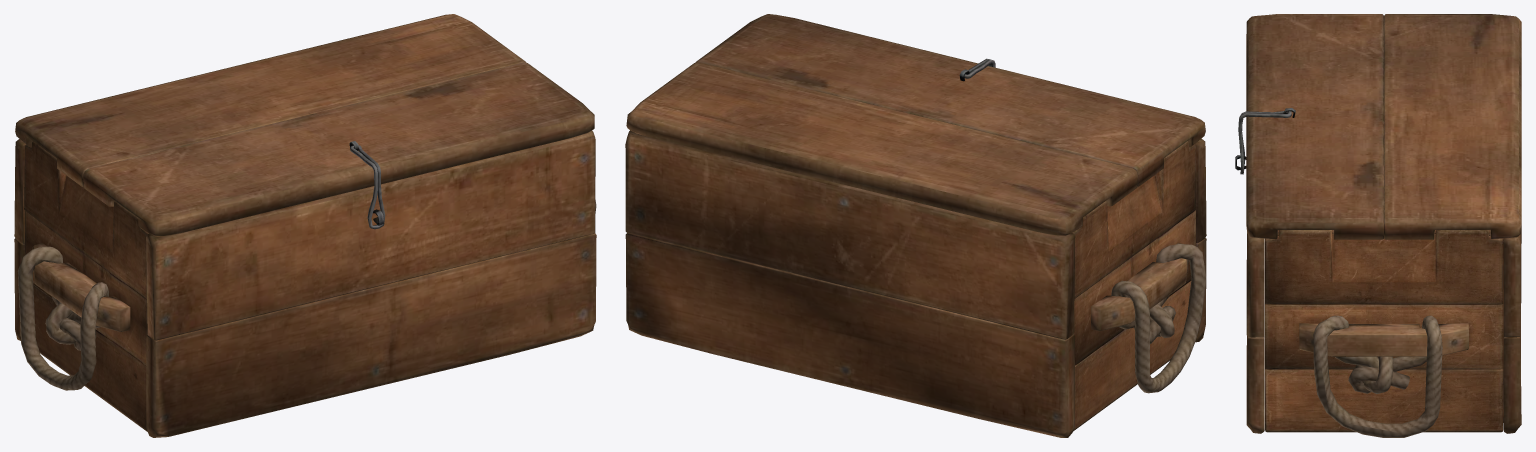
Rendered from storage-box.glb.
3 renders of one model, left to right at view 1: azimuth 30°, elevation 25°; view 2: azimuth 150°, elevation 25°; view 3: azimuth 270°, elevation 25°, orthographic. The views are drawn at different scales.
Visible parts, largest first — view 1: wooden_crate_01, wooden_crate_01_lid, wooden_crate_01_latch; view 2: wooden_crate_01, wooden_crate_01_lid; view 3: wooden_crate_01_lid, wooden_crate_01, wooden_crate_01_latch.
Part boxes in pixels (<box>): wooden_crate_01: <box>14,131,596,437</box>; wooden_crate_01_lid: <box>15,14,594,236</box>; wooden_crate_01_latch: <box>350,145,385,229</box>; wooden_crate_01: <box>625,130,1206,437</box>; wooden_crate_01_lid: <box>626,14,1205,236</box>; wooden_crate_01_lid: <box>1246,14,1521,239</box>; wooden_crate_01: <box>1235,155,1521,437</box>; wooden_crate_01_latch: <box>1238,111,1291,174</box>.
Size of the model in its own units: 0.8245 by 0.3495 by 0.4072.
Materials: 1 (1 with a texture image).
